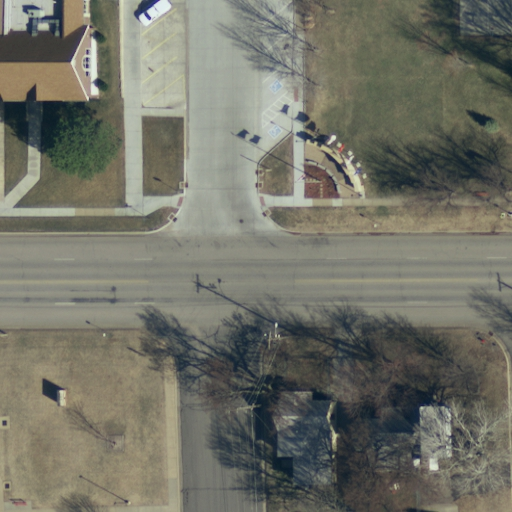DT: (259, 325, 296, 351), (225, 395, 263, 418)
